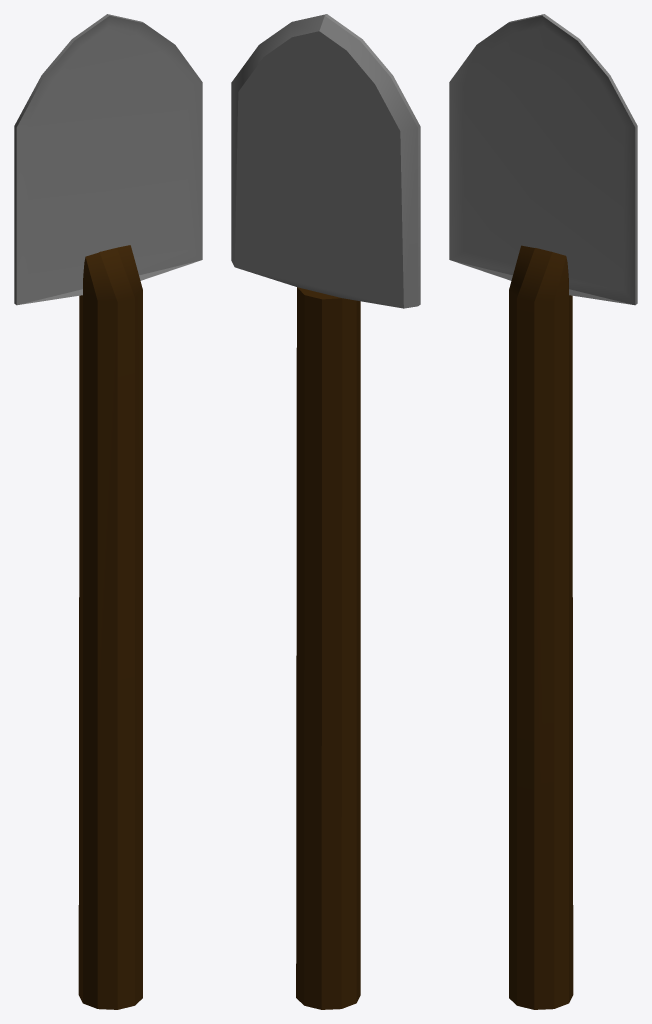
Rendered from Shovel_01.fbx.
3 renders of one model, left to right at view 1: azimuth 30°, elevation 25°; view 2: azimuth 150°, elevation 25°; view 3: azimuth 330°, elevation 25°, orthographic.
Visible parts, largest first — view 1: pCylinder1; view 2: pCylinder1; view 3: pCylinder1.
Boxes of the visible parts, x1,y1,x2,y2 form: pCylinder1: (14,14,202,1009); pCylinder1: (231,14,420,1009); pCylinder1: (449,14,637,1009).
Bounding box in the file's own units: 33.19 × 167 × 9.51.
